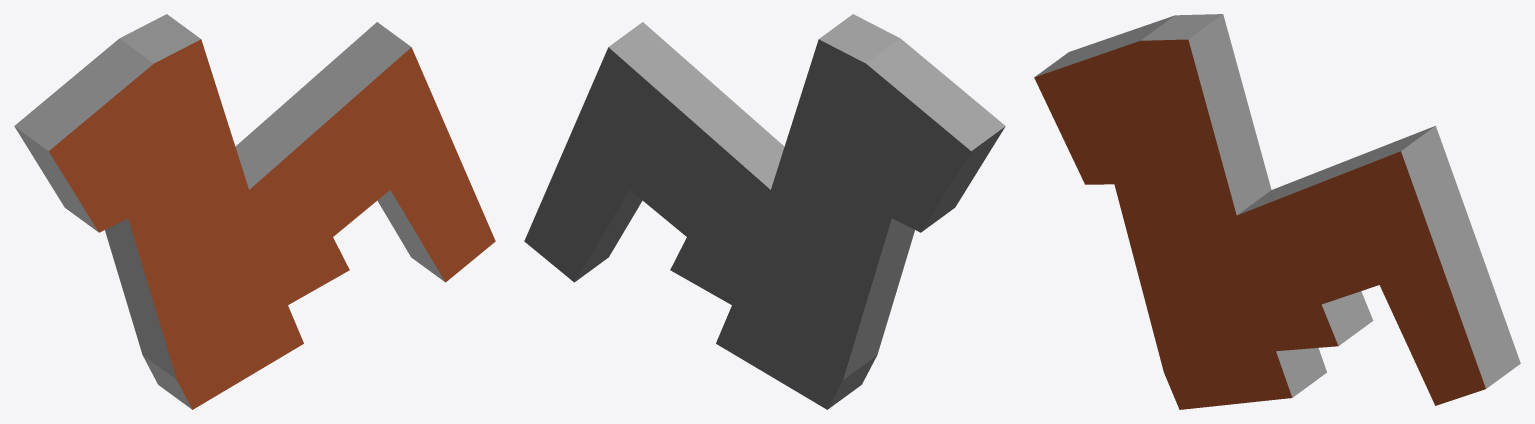
File: construction_4085_assumed_A_Casa_h6m.obj
The picture shows the model from 3 angles, left to right: view 1: azimuth 30°, elevation 25°; view 2: azimuth 150°, elevation 25°; view 3: azimuth 330°, elevation 25°; orthographic projection.
Parts seen in each view (by area): view 1: construction_4085_assumed_A_Casa; view 2: construction_4085_assumed_A_Casa; view 3: construction_4085_assumed_A_Casa.
Part boxes in pixels (x1,y1,x2,y2): construction_4085_assumed_A_Casa: (14, 14, 495, 409); construction_4085_assumed_A_Casa: (524, 14, 1005, 409); construction_4085_assumed_A_Casa: (1034, 14, 1520, 409).
Size of the model in its own units: 44.95 by 35.41 by 6.
